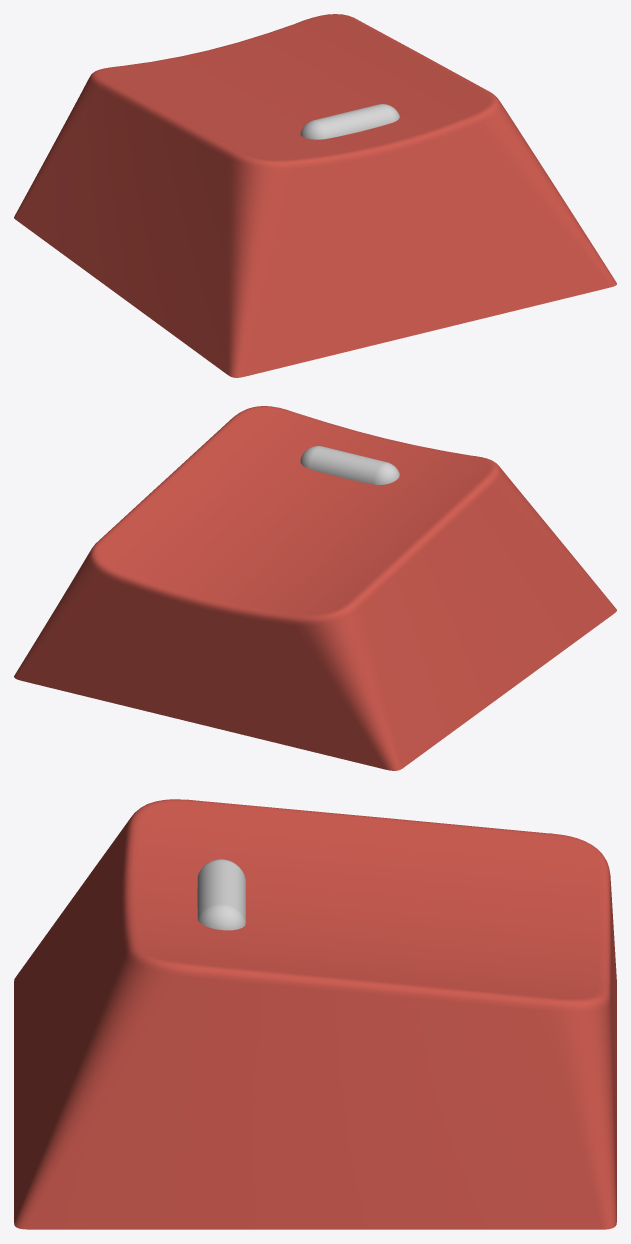
The model's file is CHR-R3-1u-Homing.gltf.
3 views of the same model, one above another, from view 1: azimuth 30°, elevation 25°; view 2: azimuth 150°, elevation 25°; view 3: azimuth 270°, elevation 25° (orthographic). The views are drawn at different scales.
Parts seen in each view (by area): view 1: object 1, object 2; view 2: object 1, object 2; view 3: object 1, object 2.
Part boxes in pixels (box(x1,y1,x2,y2)): object 1: box(14, 14, 616, 377); object 2: box(300, 104, 399, 139); object 1: box(14, 406, 616, 770); object 2: box(300, 446, 399, 484); object 1: box(14, 799, 616, 1229); object 2: box(197, 859, 245, 930).
Bounding box in the file's own units: 1.81 × 0.7322 × 1.81.
